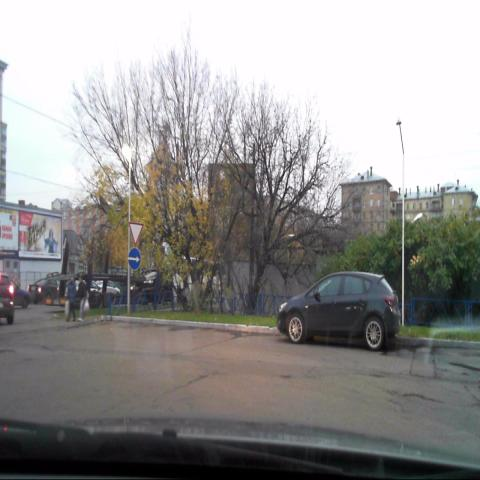4_1_2_1: (128, 248, 141, 272)
